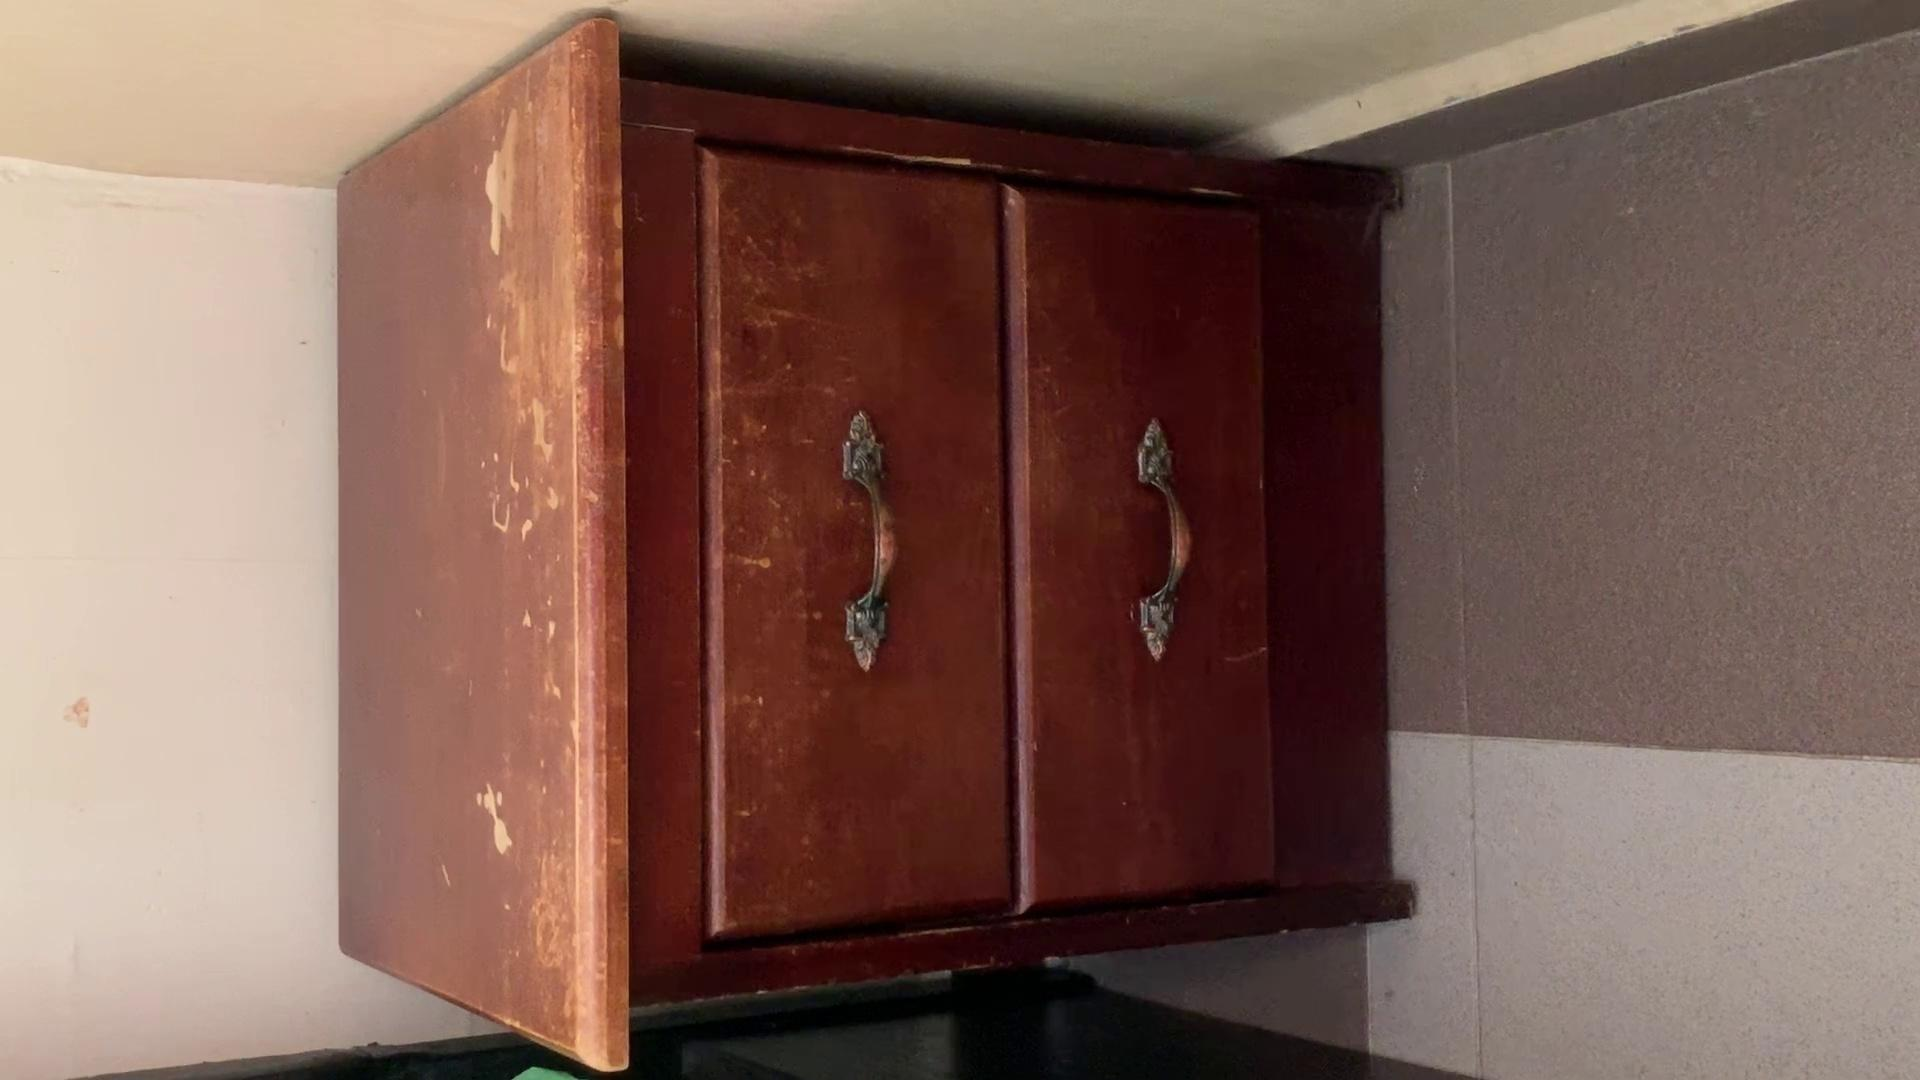cabinet_door: (698, 165, 1014, 920), (1013, 196, 1269, 895)
handle: (829, 407, 911, 683), (1126, 409, 1207, 667)
